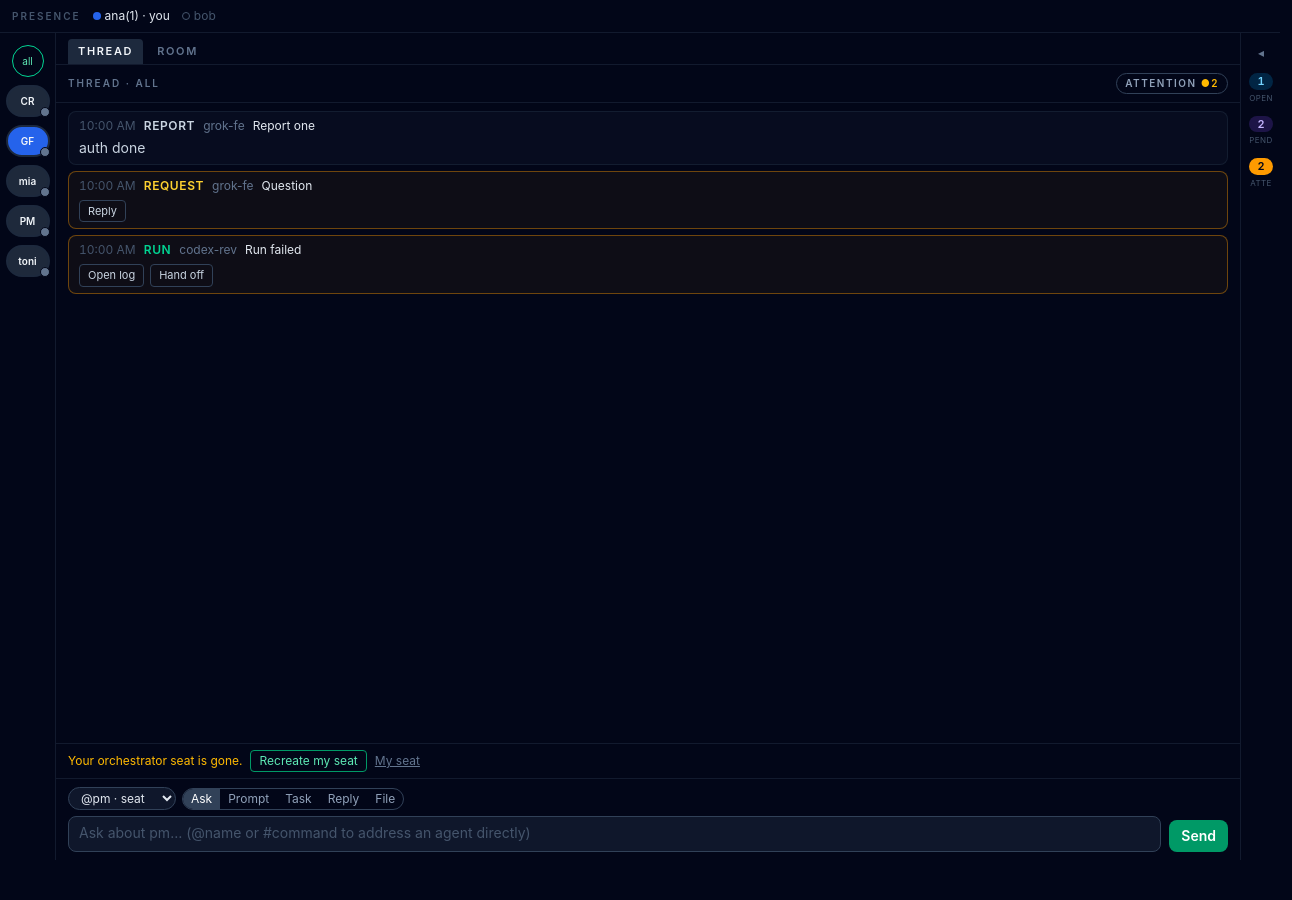
Test case: CommandCenter › your own seat (spec §5d) › a missing seat is offered for recreation and Ask is blocked instead of silently falling back
The image size is (1292, 900).
Expected: the text "Report one" is shown, [253,118,315,132]
Expected: the message shows "Your orchestrator seat is not shown.", [68,753,242,768]
Type "what is everyone on?" into the text box named "Message" at x=615, y=834, box [68,816,1161,852]
Then press Enter
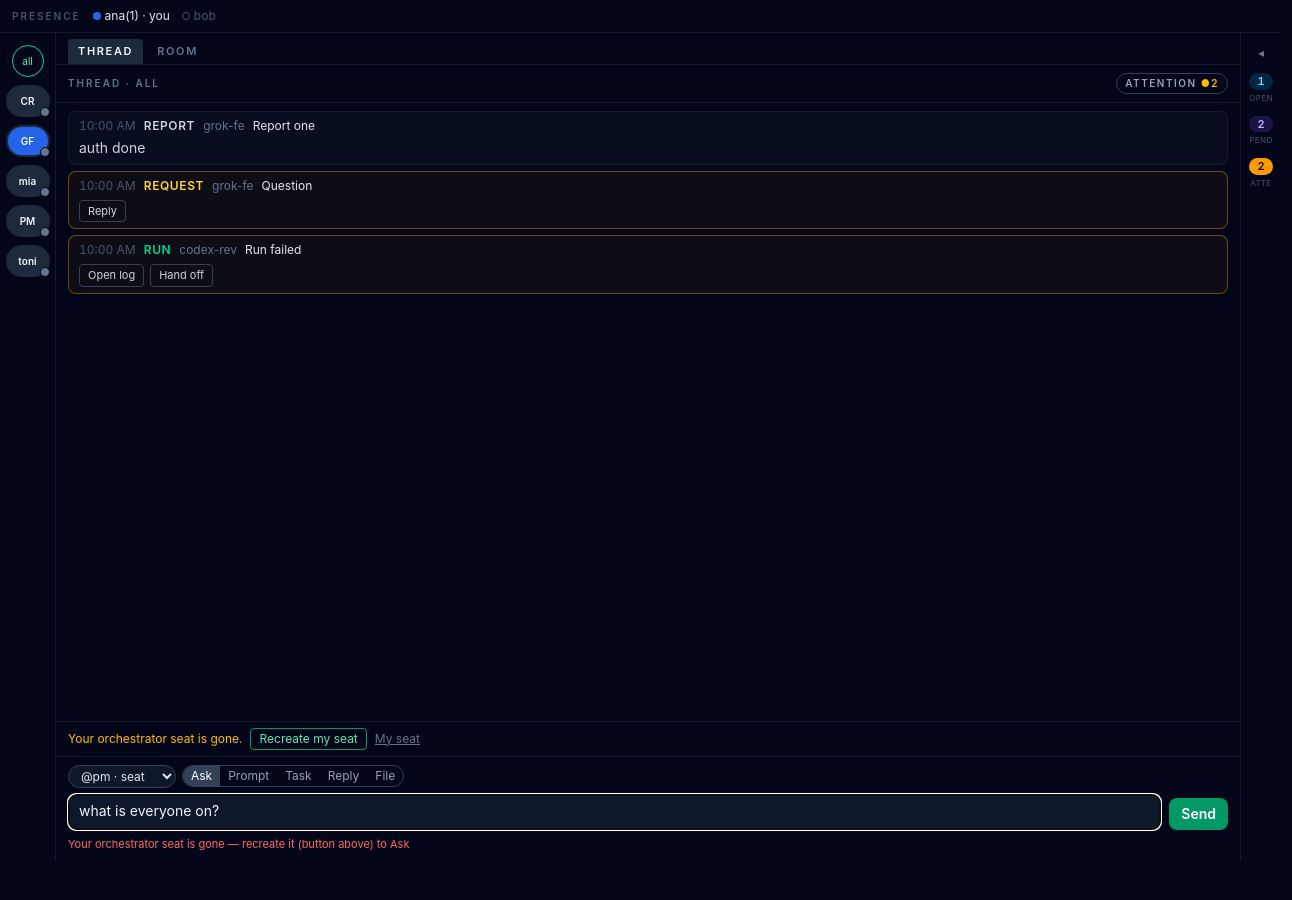
Expected: the message "Your orchestrator seat is gone — recreate it (button above) to Ask" is shown, [68,836,409,850]
